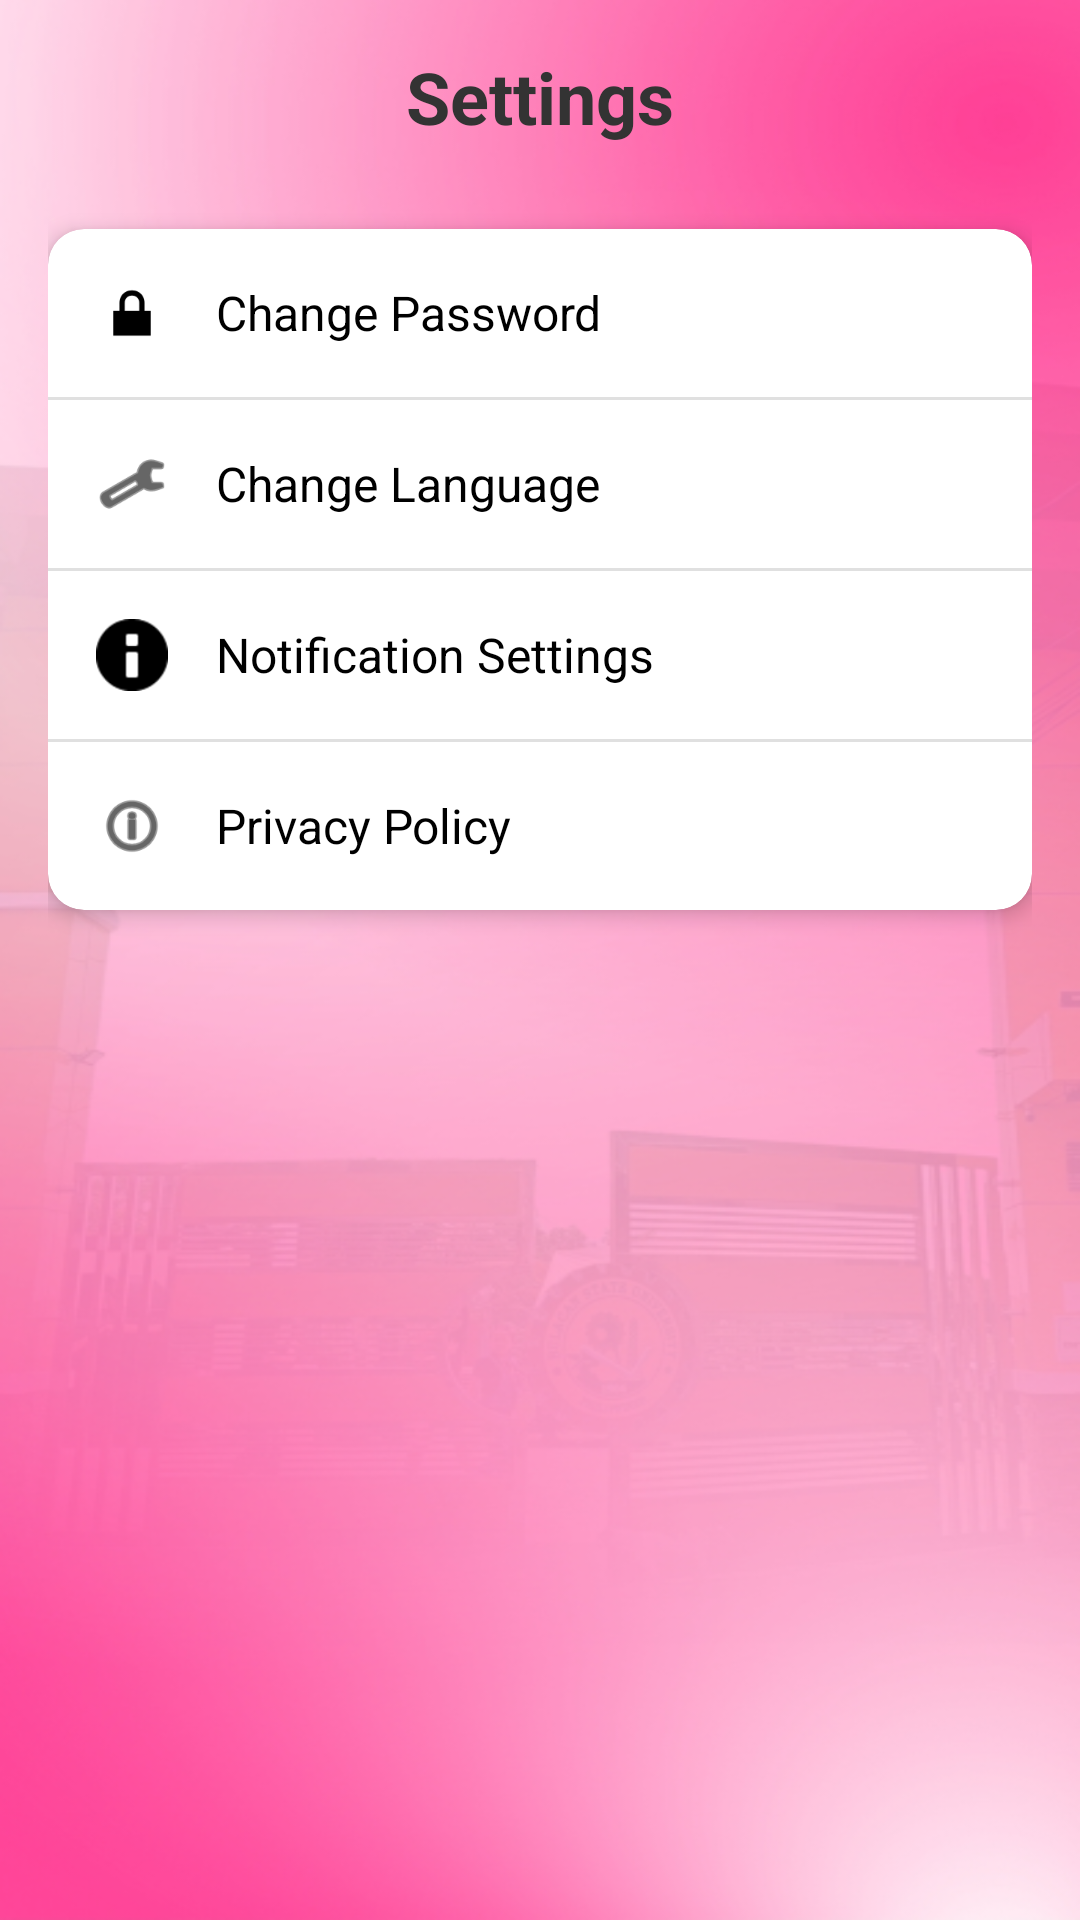

Where icons sit on this 1080w x 1920h app screen, as {"left": x1, "top": y1, "right": x2, "bottom": y2}:
lock: {"left": 113, "top": 290, "right": 151, "bottom": 336}
manage: {"left": 99, "top": 459, "right": 164, "bottom": 509}
